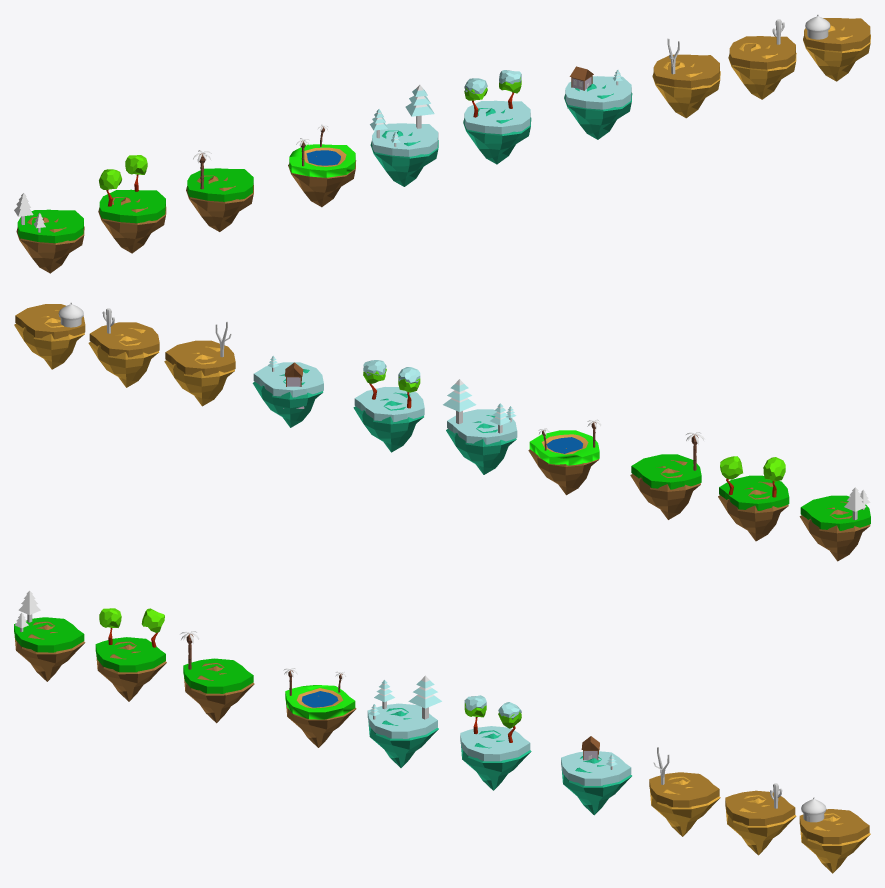
The model's file is places New seasons.FBX.
3 renders of one model, top to bottom at view 1: azimuth 30°, elevation 25°; view 2: azimuth 150°, elevation 25°; view 3: azimuth 330°, elevation 25°, orthographic.
Parts seen in each view (by area): view 1: Green_platform015, Green_platform003, Green_platform007, Green_platform011, Green_platform013, Green_platform010, Green_platform008, Green_platform009, Green_platform017, Green_platform004, Island013, Island011 (+8 smaller); view 2: Green_platform003, Green_platform013, Green_platform015, Green_platform007, Green_platform011, Green_platform008, Green_platform010, Green_platform004, Green_platform009, Island011, Green_platform017, Island003 (+8 smaller); view 3: Green_platform003, Green_platform013, Green_platform007, Green_platform011, Green_platform008, Green_platform015, Green_platform010, Green_platform009, Green_platform017, Green_platform004, Island009, Island003 (+8 smaller).
Boxes of the visible parts, <box> form: Green_platform015: <box>729,36,795,69</box>; Green_platform003: <box>187,168,253,201</box>; Green_platform007: <box>99,189,165,223</box>; Green_platform011: <box>464,100,530,134</box>; Green_platform013: <box>653,54,719,87</box>; Green_platform010: <box>372,123,438,156</box>; Green_platform008: <box>17,209,83,243</box>; Green_platform009: <box>565,76,631,109</box>; Green_platform017: <box>804,18,870,51</box>; Green_platform004: <box>289,144,355,177</box>; Island013: <box>728,43,796,99</box>; Island011: <box>652,61,720,118</box>; Green_platform003: <box>631,454,701,489</box>; Green_platform013: <box>165,340,235,375</box>; Green_platform015: <box>89,322,159,357</box>; Green_platform007: <box>719,475,789,510</box>; Green_platform011: <box>354,387,424,422</box>; Green_platform008: <box>800,495,870,530</box>; Green_platform010: <box>447,409,517,444</box>; Green_platform004: <box>529,430,599,465</box>; Green_platform009: <box>253,362,323,397</box>; Island011: <box>164,346,234,406</box>; Green_platform017: <box>15,304,85,339</box>; Island003: <box>630,460,700,519</box>; Green_platform003: <box>183,658,253,693</box>; Green_platform013: <box>649,772,719,807</box>; Green_platform007: <box>95,637,165,672</box>; Green_platform011: <box>460,726,530,761</box>; Green_platform008: <box>14,617,84,652</box>; Green_platform015: <box>725,790,795,825</box>; Green_platform010: <box>367,703,437,738</box>; Green_platform009: <box>561,751,631,785</box>; Green_platform017: <box>799,809,869,844</box>; Green_platform004: <box>285,685,355,719</box>; Island009: <box>460,730,531,790</box>; Island003: <box>184,663,254,723</box>.
Bounding box in the file's own units: 1775 × 189 × 123.
